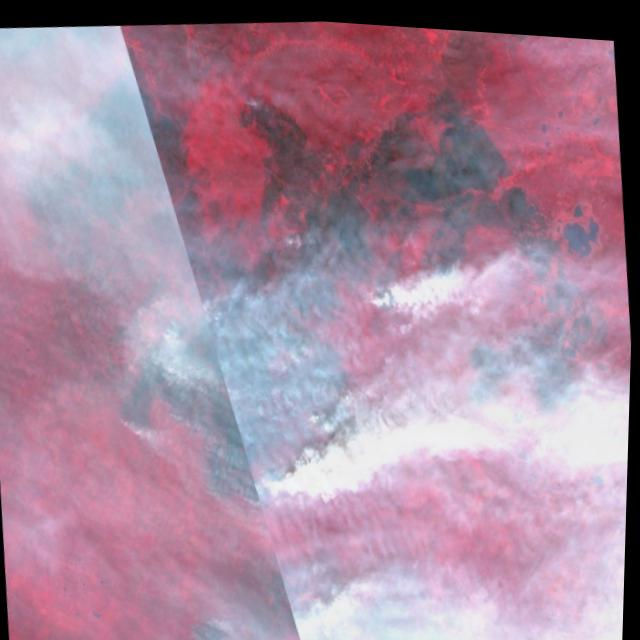fire: (240, 406, 341, 507), (111, 391, 162, 450), (184, 600, 247, 640), (368, 266, 417, 315)
